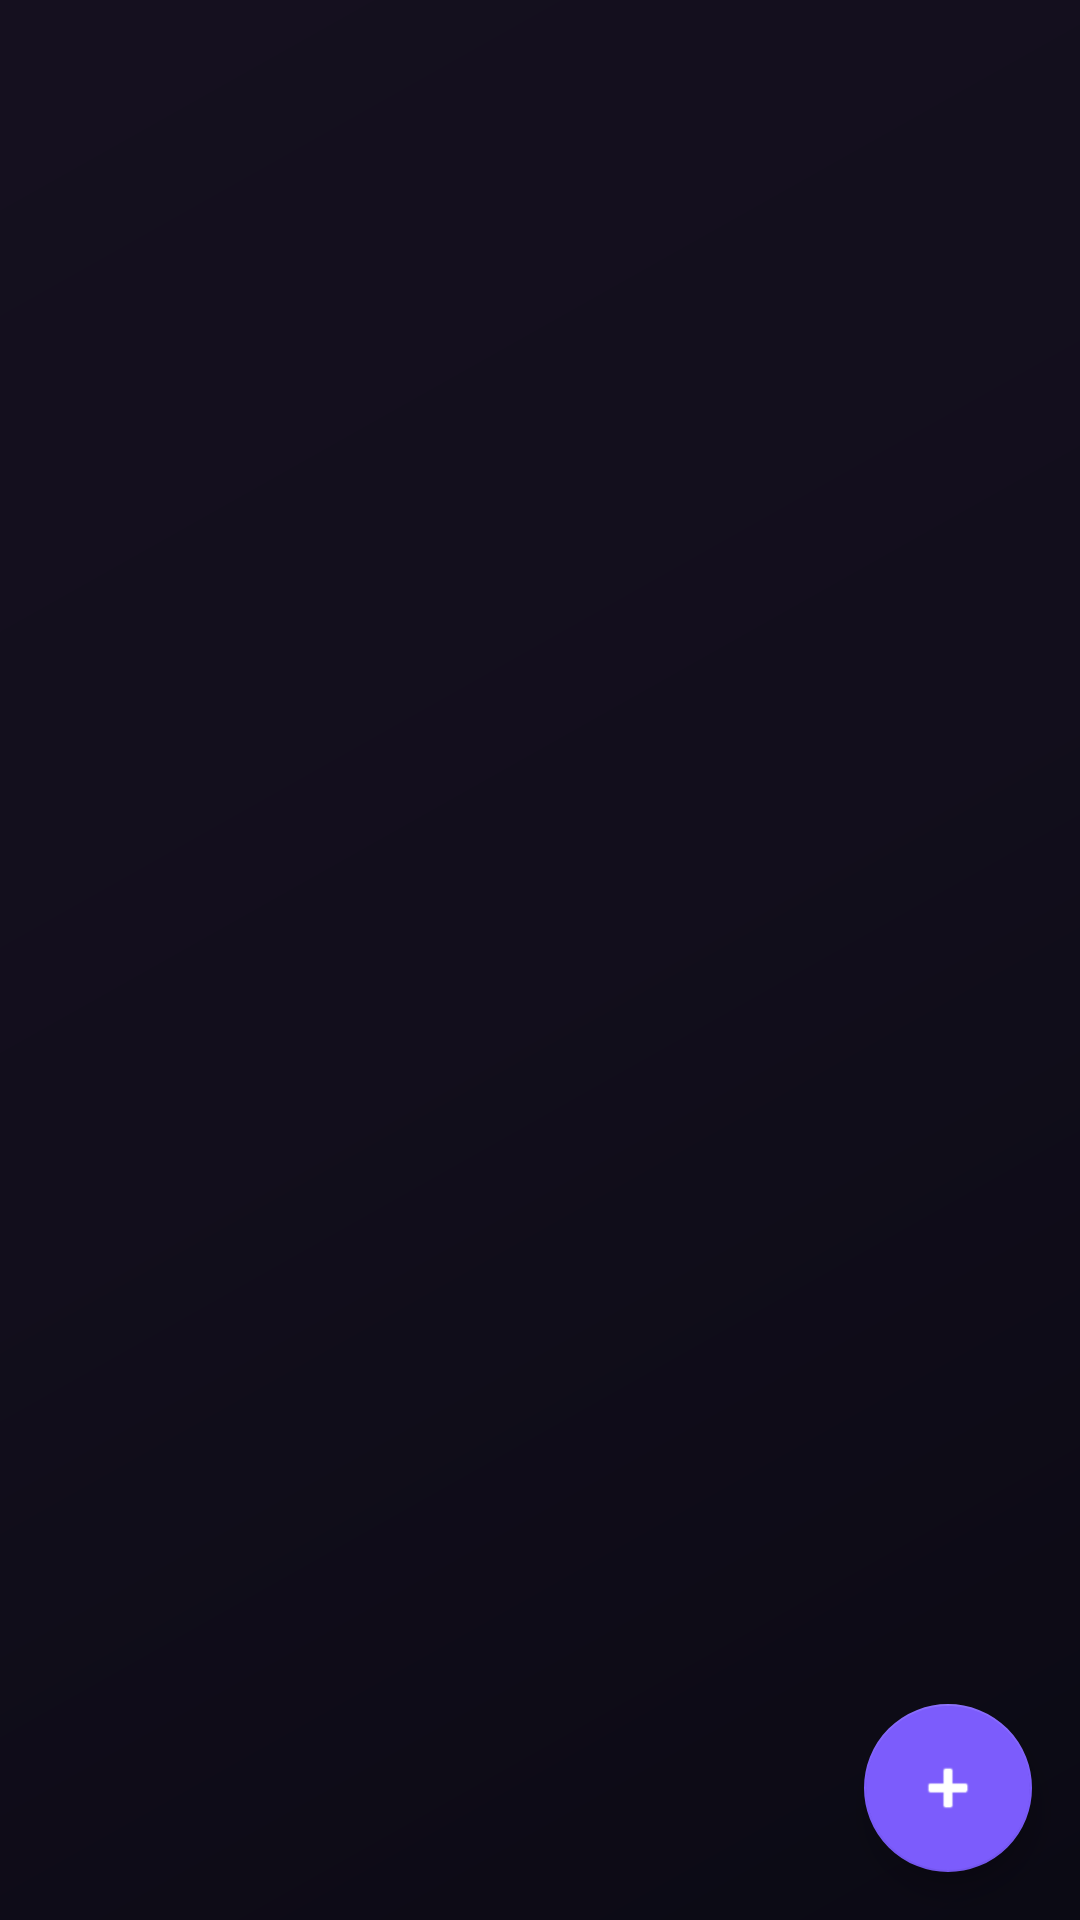

Where to tap for icons on this 1080w x 1920h app screen, as point (x, y):
New Playlist: point (948, 1788)
